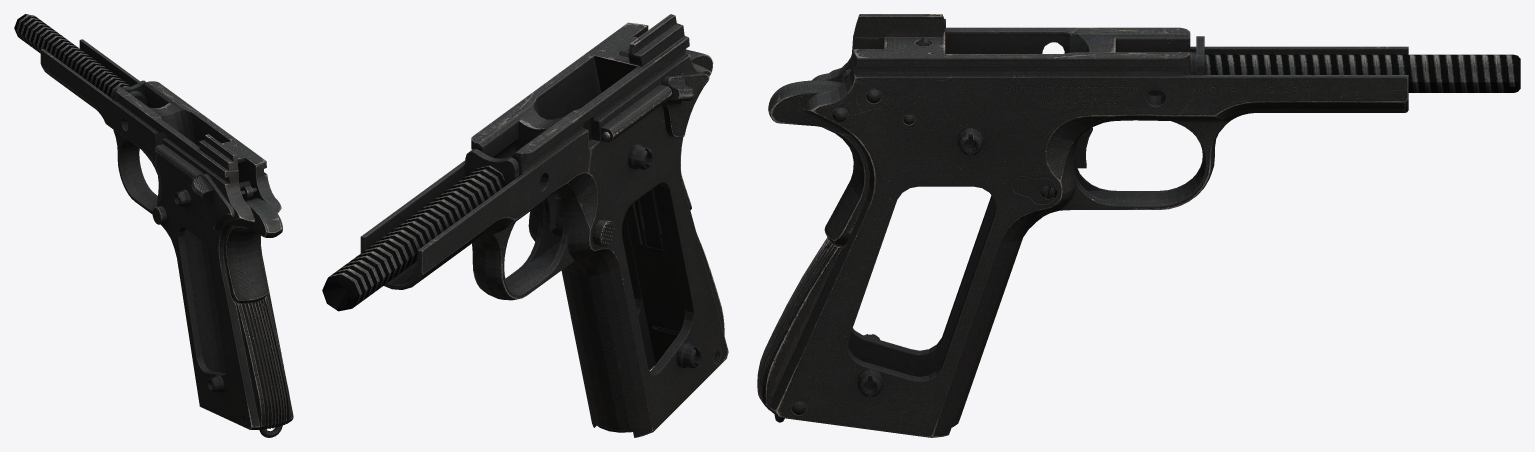
The picture shows the model from 3 angles, left to right: view 1: azimuth 30°, elevation 25°; view 2: azimuth 150°, elevation 25°; view 3: azimuth 270°, elevation 25°; orthographic projection. The views are drawn at different scales.
Visible parts, largest first — view 1: TW_5e81c3cbac2bb513793cdc75_PZ_Import; view 2: TW_5e81c3cbac2bb513793cdc75_PZ_Import; view 3: TW_5e81c3cbac2bb513793cdc75_PZ_Import.
Part boxes in pixels (box(x1,y1,x2,y2)): TW_5e81c3cbac2bb513793cdc75_PZ_Import: box(14, 14, 293, 437); TW_5e81c3cbac2bb513793cdc75_PZ_Import: box(322, 14, 728, 437); TW_5e81c3cbac2bb513793cdc75_PZ_Import: box(757, 14, 1520, 437).
Bounding box in the file's own units: 0.0182 × 0.1181 × 0.0686.
1 material, 1 textured.
